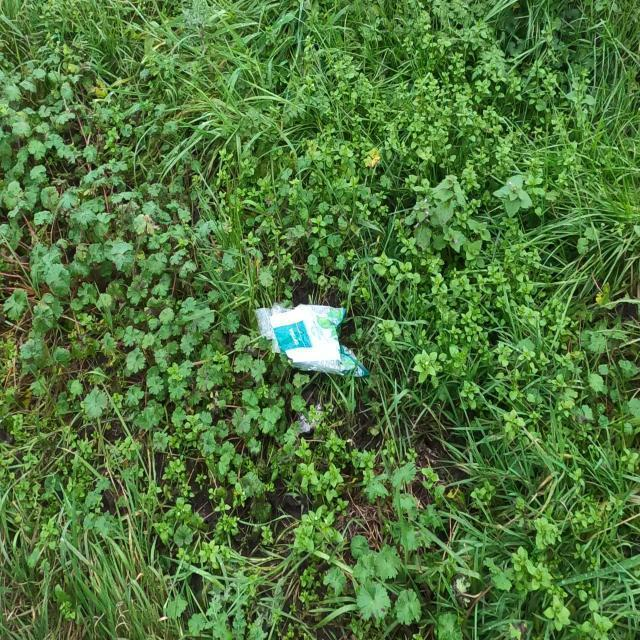Plastic: (252, 302, 371, 378)
